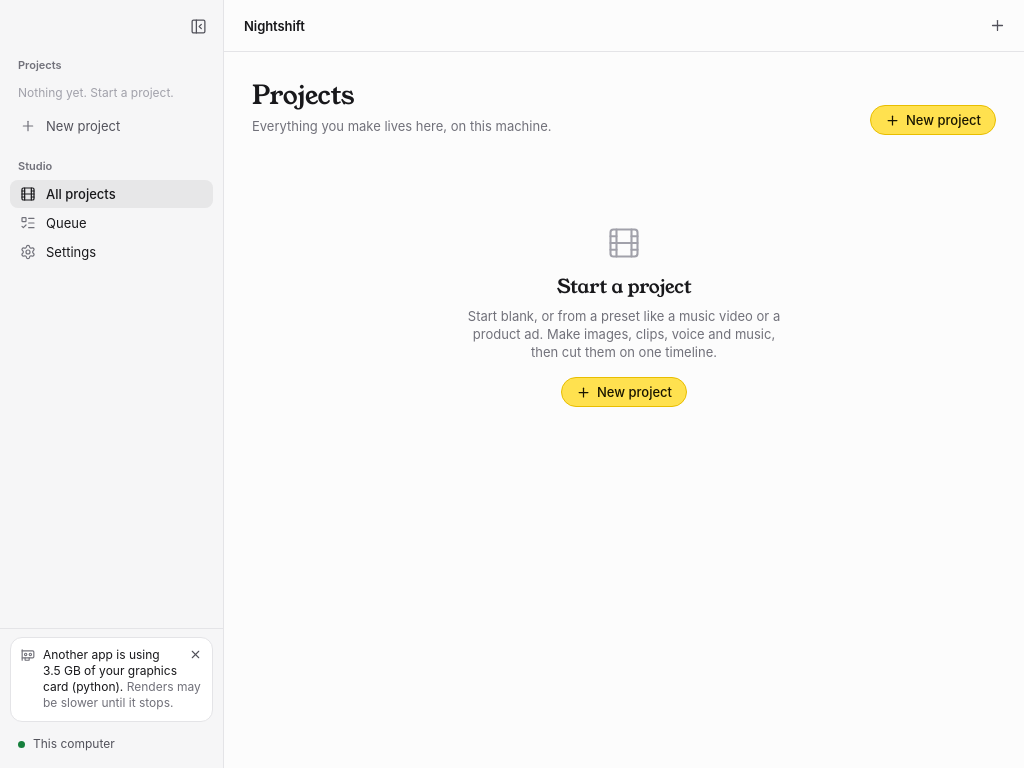
another app on the graphics card › a dismissed warning stays away for the same apps and comes back for others
Expected: the heading "Projects" is shown, [252,77,354,114]
Click the button named "Dismiss". click: {"x": 195, "y": 654}
box: [184,643,206,665]
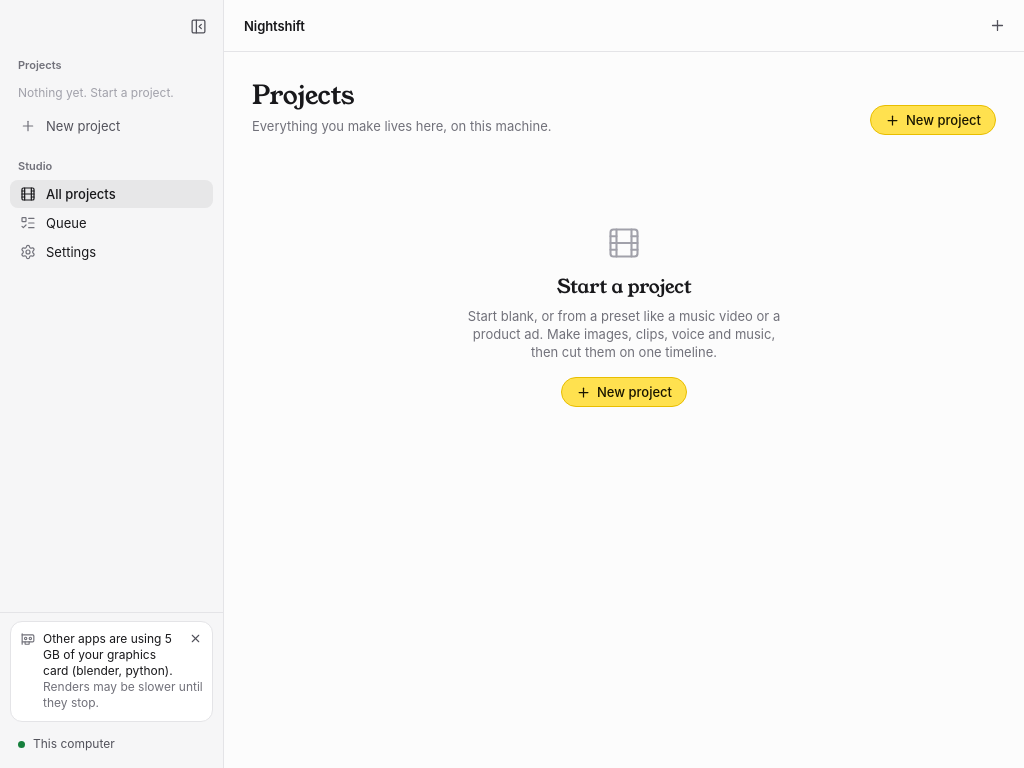
Now the message shows "(blender, python)", box [68,663,169,678]
